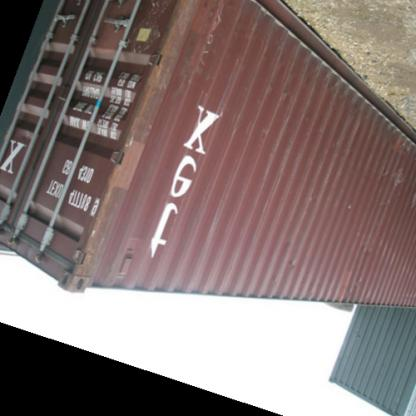Damage: (109, 19, 181, 200), (364, 156, 406, 258), (61, 226, 116, 288), (262, 78, 298, 143), (192, 14, 228, 76), (280, 260, 300, 280)
